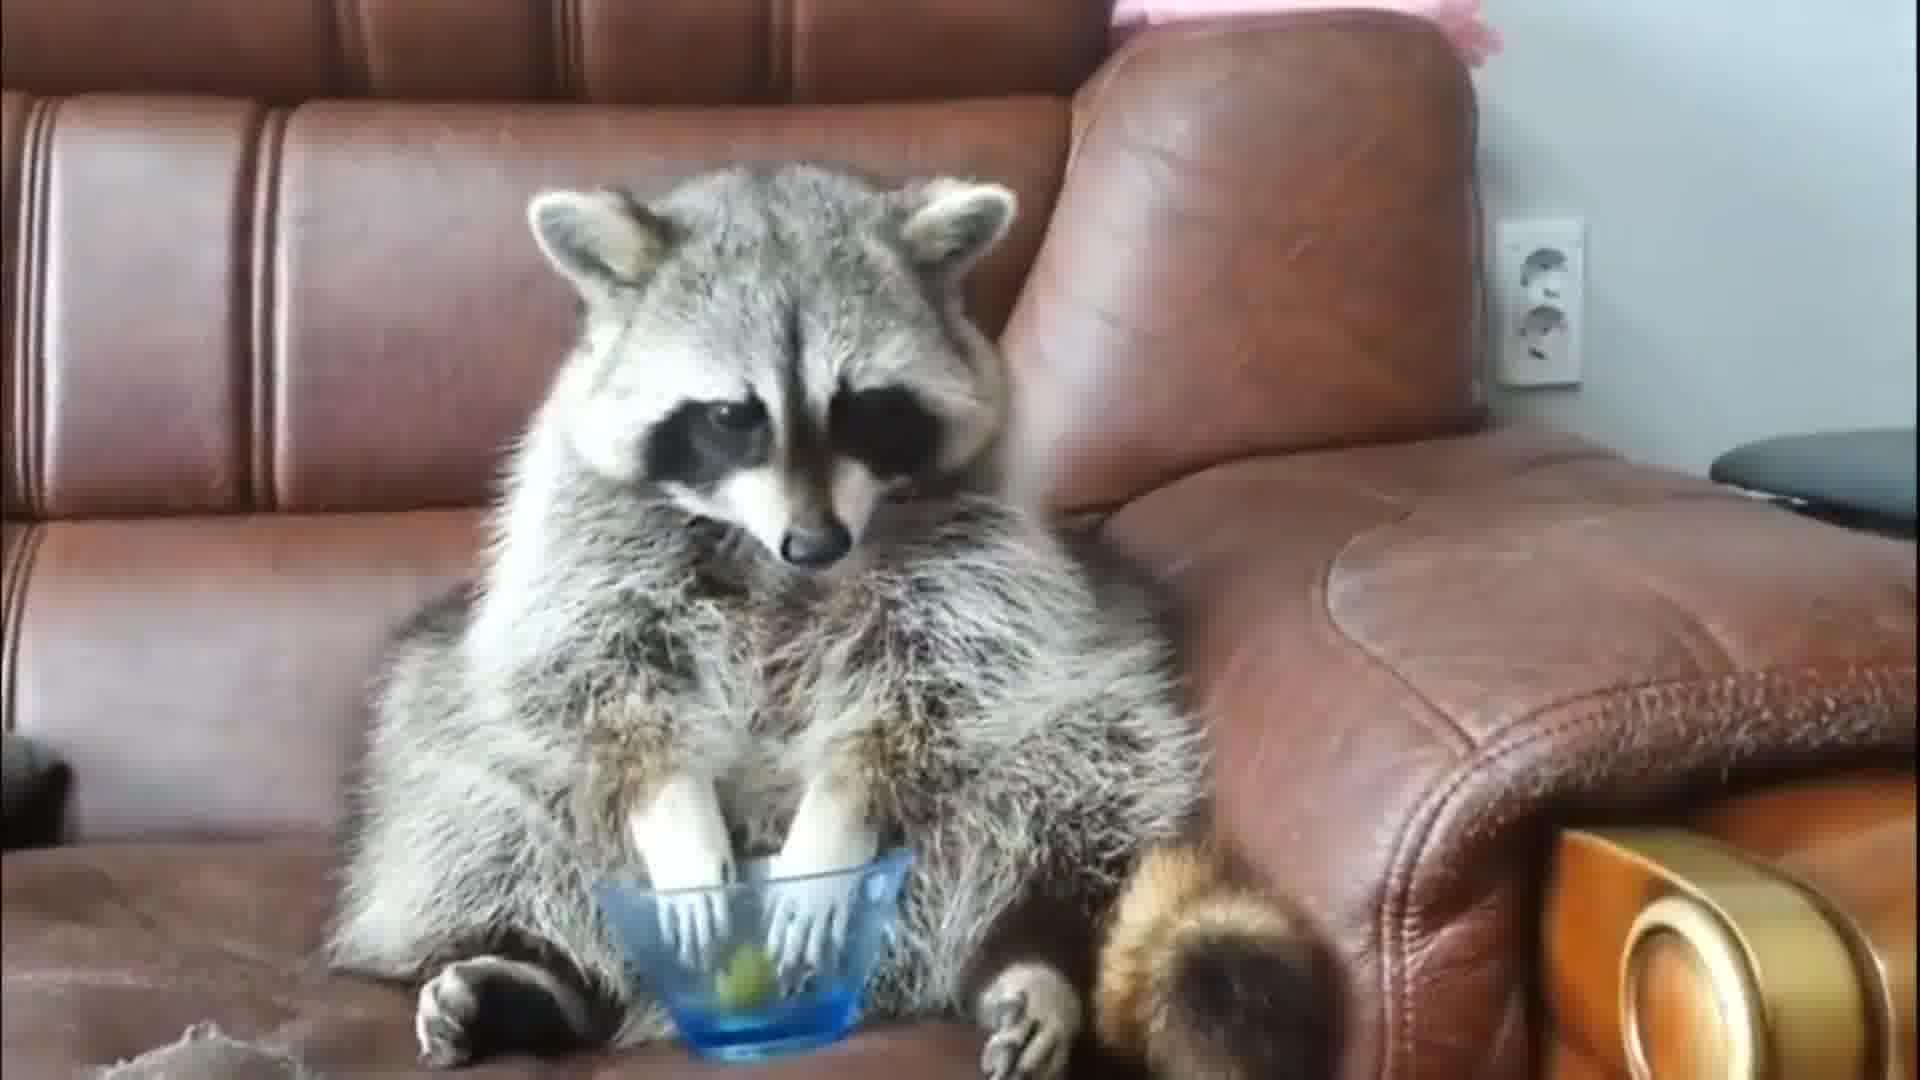raccoon: (320, 156, 1342, 1080)
